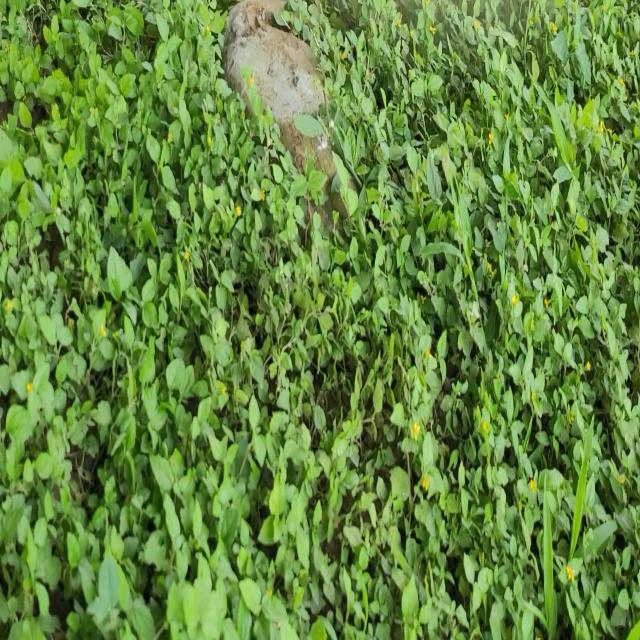grass: (1, 0, 640, 640)
stone: (223, 0, 336, 179)
